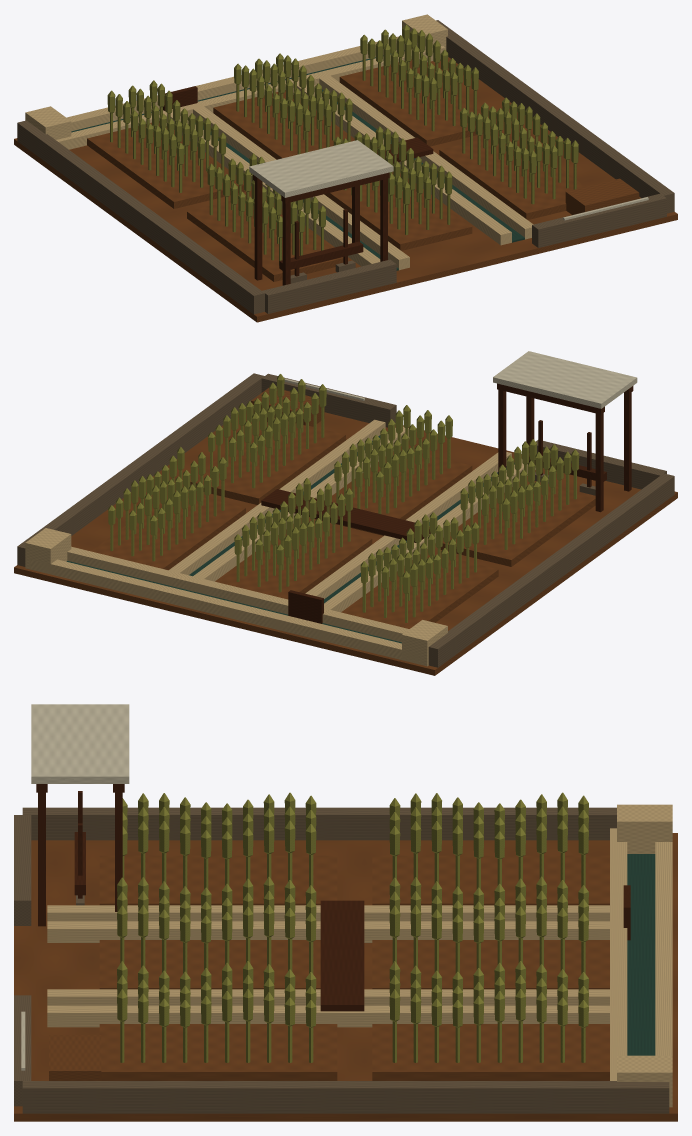
Rendered from Berber_Farm_Age3.fbx.
3 renders of one model, top to bottom at view 1: azimuth 30°, elevation 25°; view 2: azimuth 150°, elevation 25°; view 3: azimuth 270°, elevation 25°, orthographic. The views are drawn at different scales.
Parts seen in each view (by area): view 1: flat_earth_plot, low_side_edging, low_side_edging.001, woven_tool_shade, raised_bed_2_0, raised_bed_0_1, raised_bed_2_1, raised_bed_1_0, raised_bed_0_0, south_edge_open_entry, branch_channel_bank.003, raised_bed_1_1 (+16 smaller); view 2: flat_earth_plot, low_side_edging, header_channel_bank.001, low_side_edging.001, header_channel_bank, woven_tool_shade, raised_bed_0_0, raised_bed_2_0, raised_bed_2_1, raised_bed_0_1, raised_bed_1_1, raised_bed_1_0 (+16 smaller); view 3: flat_earth_plot, low_side_edging.001, low_side_edging, raised_bed_2_1, raised_bed_2_0, raised_bed_0_1, raised_bed_1_1, raised_bed_0_0, raised_bed_1_0, woven_tool_shade, branch_channel_bank.003, branch_channel_bank.001 (+13 smaller).
Part boxes in pixels (x1,y1,x2,y2): flat_earth_plot: [14, 57, 677, 322]; low_side_edging: [17, 120, 264, 314]; low_side_edging.001: [436, 20, 674, 213]; woven_tool_shade: [249, 140, 393, 197]; raised_bed_2_0: [439, 132, 585, 219]; raised_bed_0_1: [87, 121, 245, 208]; raised_bed_2_1: [339, 59, 496, 146]; raised_bed_1_0: [324, 172, 472, 250]; raised_bed_0_0: [187, 195, 343, 281]; south_edge_open_entry: [262, 259, 396, 313]; branch_channel_bank.003: [319, 75, 533, 239]; raised_bed_1_1: [213, 90, 354, 159]; flat_earth_plot: [14, 410, 677, 675]; low_side_edging: [428, 473, 674, 667]; header_channel_bank.001: [30, 559, 422, 664]; low_side_edging.001: [17, 373, 264, 566]; header_channel_bank: [67, 546, 409, 642]; woven_tool_shade: [493, 351, 637, 408]; raised_bed_0_0: [440, 479, 595, 566]; raised_bed_2_0: [190, 418, 345, 504]; raised_bed_2_1: [91, 491, 245, 570]; raised_bed_0_1: [343, 552, 498, 628]; raised_bed_1_1: [217, 521, 372, 599]; raised_bed_1_0: [314, 448, 472, 535]; flat_earth_plot: [14, 833, 677, 1121]; low_side_edging.001: [22, 1081, 669, 1113]; low_side_edging: [22, 807, 616, 840]; raised_bed_2_1: [372, 1024, 609, 1080]; raised_bed_2_0: [99, 1024, 337, 1080]; raised_bed_0_1: [372, 855, 609, 905]; raised_bed_1_1: [372, 940, 609, 989]; raised_bed_0_0: [99, 855, 337, 905]; raised_bed_1_0: [99, 940, 320, 989]; woven_tool_shade: [31, 704, 129, 783]; branch_channel_bank.003: [47, 1005, 609, 1027]; branch_channel_bank.001: [47, 921, 609, 942].
Size of the model in its own units: 380 by 101 by 380.
7 materials, 7 textured.
